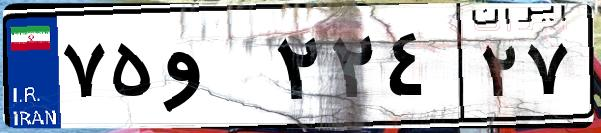2: (270, 28, 330, 110), (330, 28, 385, 110), (475, 38, 525, 113)
4: (385, 28, 445, 110)
5: (110, 28, 158, 98)
7: (57, 26, 110, 100), (525, 38, 570, 115)
و: (158, 20, 270, 120)
